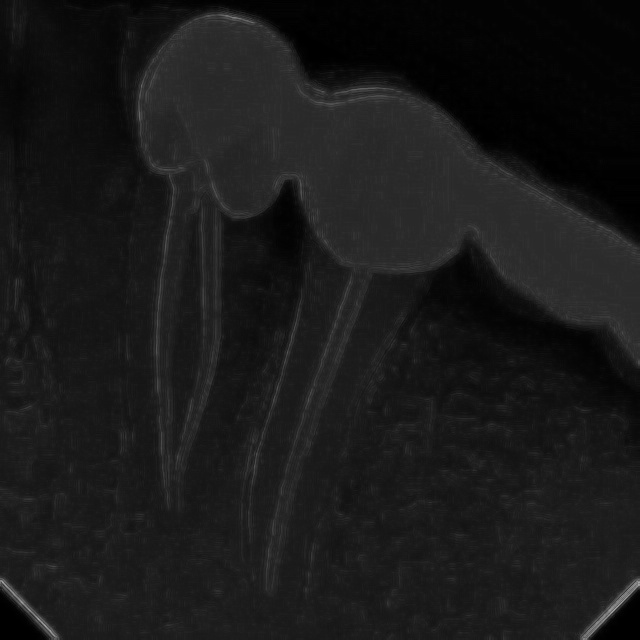Class 0- No endodontic treatment: (225, 42, 493, 640), (80, 9, 278, 551)
